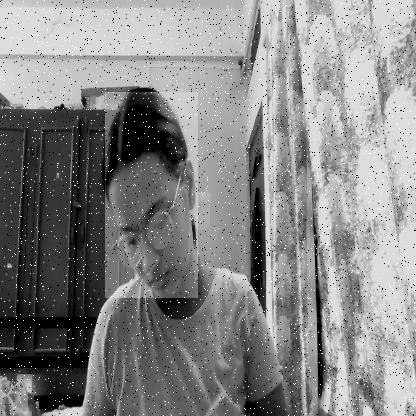Distracted: (105, 92, 198, 298)
